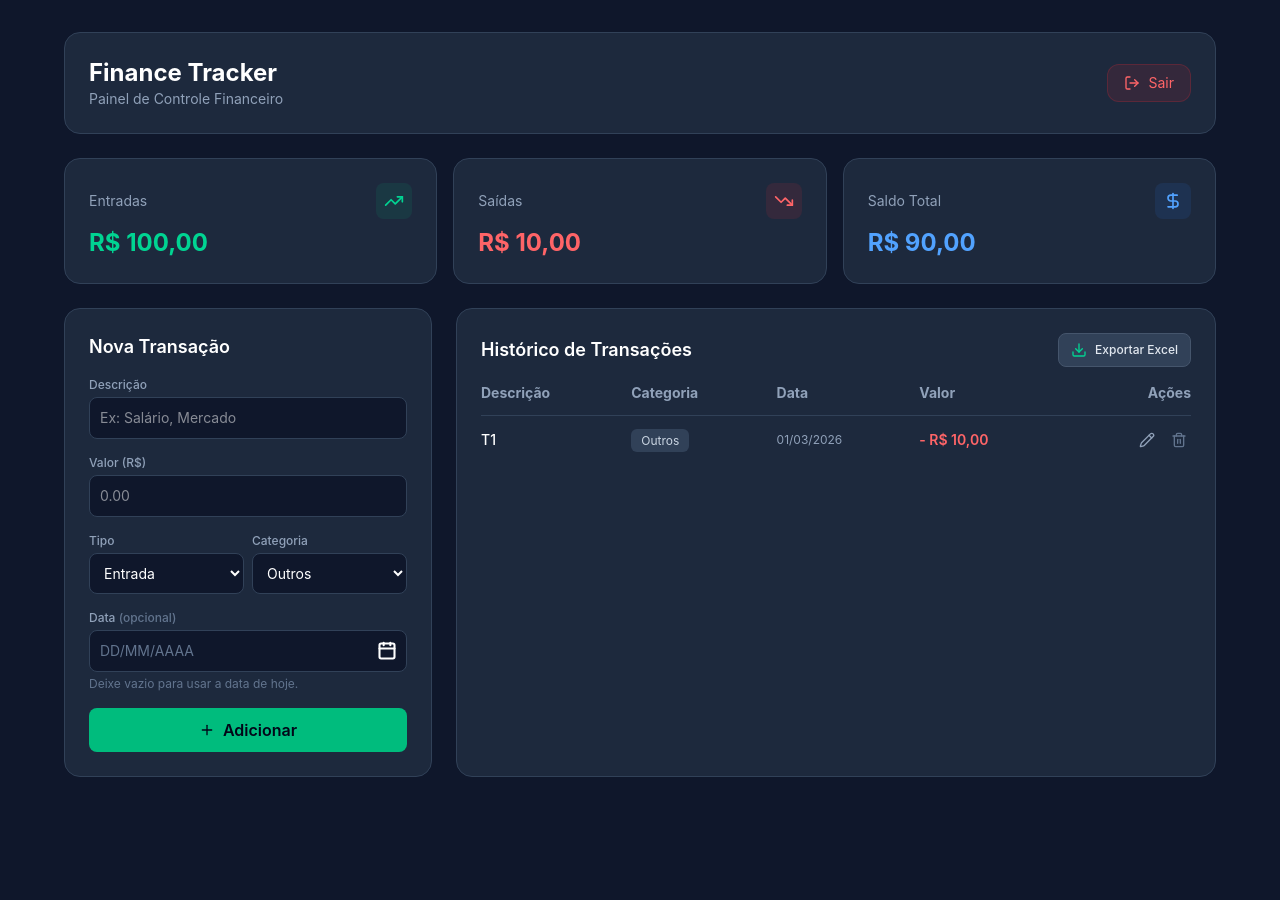
Scenario: Dashboard › fecha o modal de exclusão com Esc (F10)
This screenshot has width=1280, height=900.
Expected: the text "T1" is shown, [481,416,631,464]
Click the button named "Excluir T1" at (1179, 440), box [1167,428,1191,452]
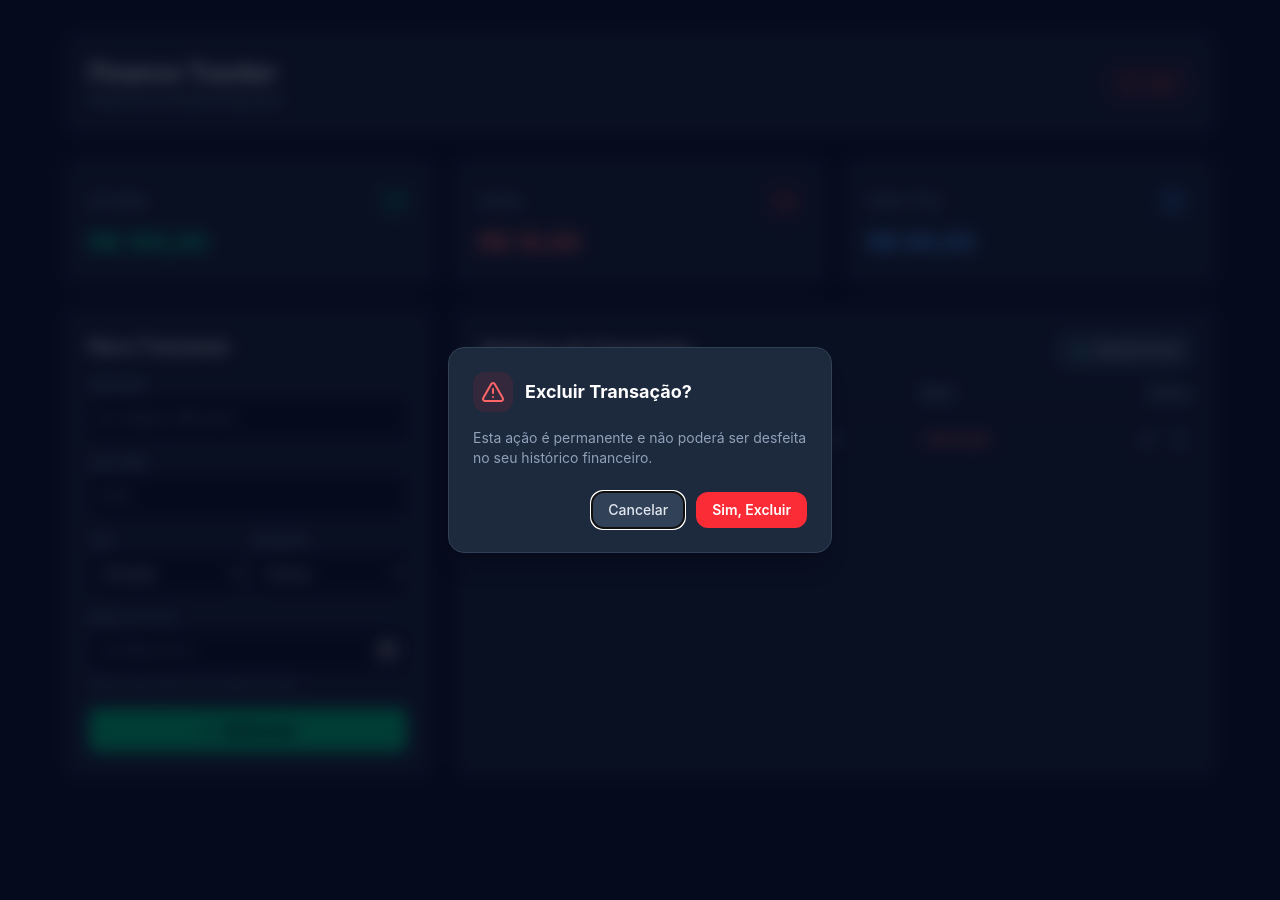
Expected: the dialog is shown
Press Escape
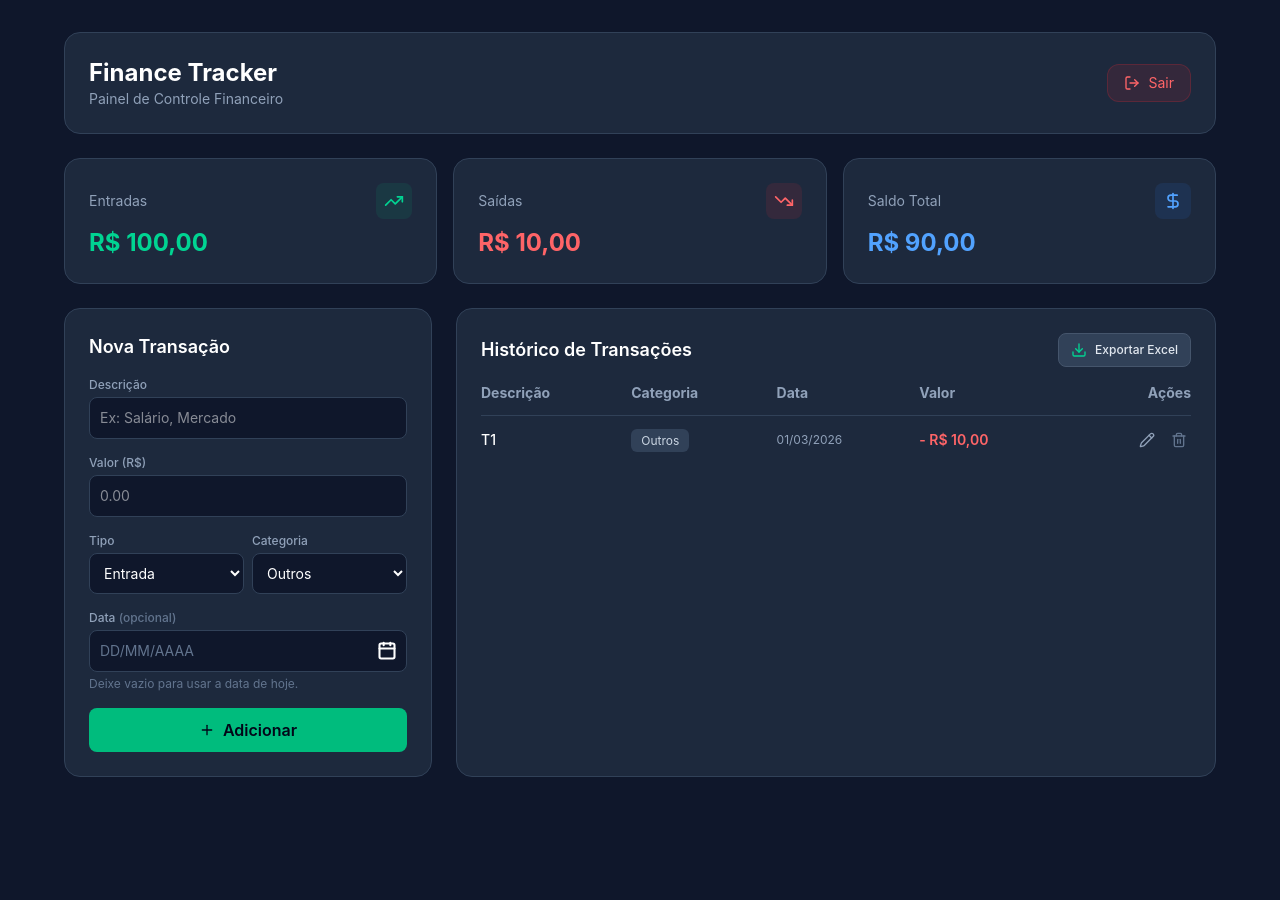
Expected: the dialog is gone
